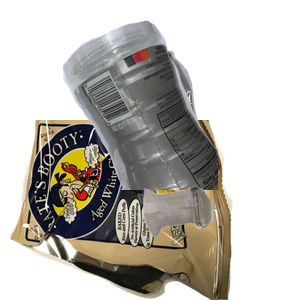glass: (141, 184, 300, 300)
metal: (85, 48, 300, 228)
plastic: (60, 18, 300, 198)
trash: (10, 120, 235, 300)
